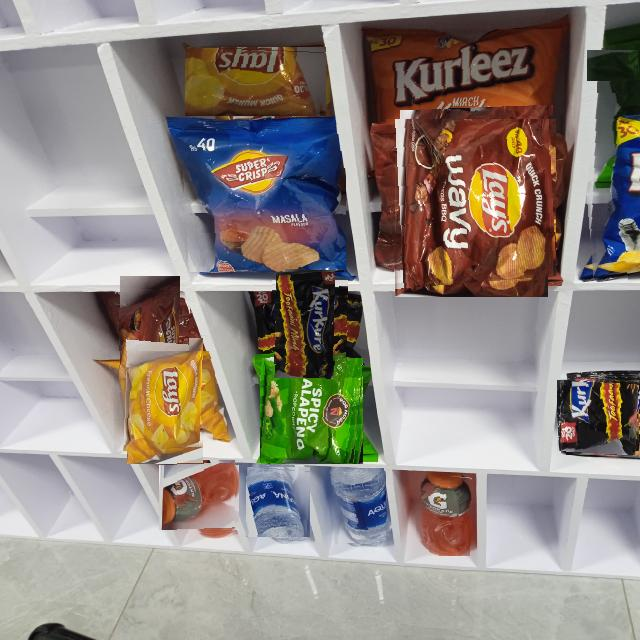Plastic: (386, 120, 556, 290), (180, 122, 347, 272), (375, 29, 564, 122), (260, 359, 364, 463), (114, 351, 216, 452), (580, 112, 640, 283), (185, 46, 326, 116), (263, 280, 348, 365), (109, 286, 190, 369), (561, 375, 640, 455), (163, 461, 235, 534), (416, 472, 472, 556), (246, 466, 310, 537), (328, 468, 386, 544), (597, 39, 640, 93)
